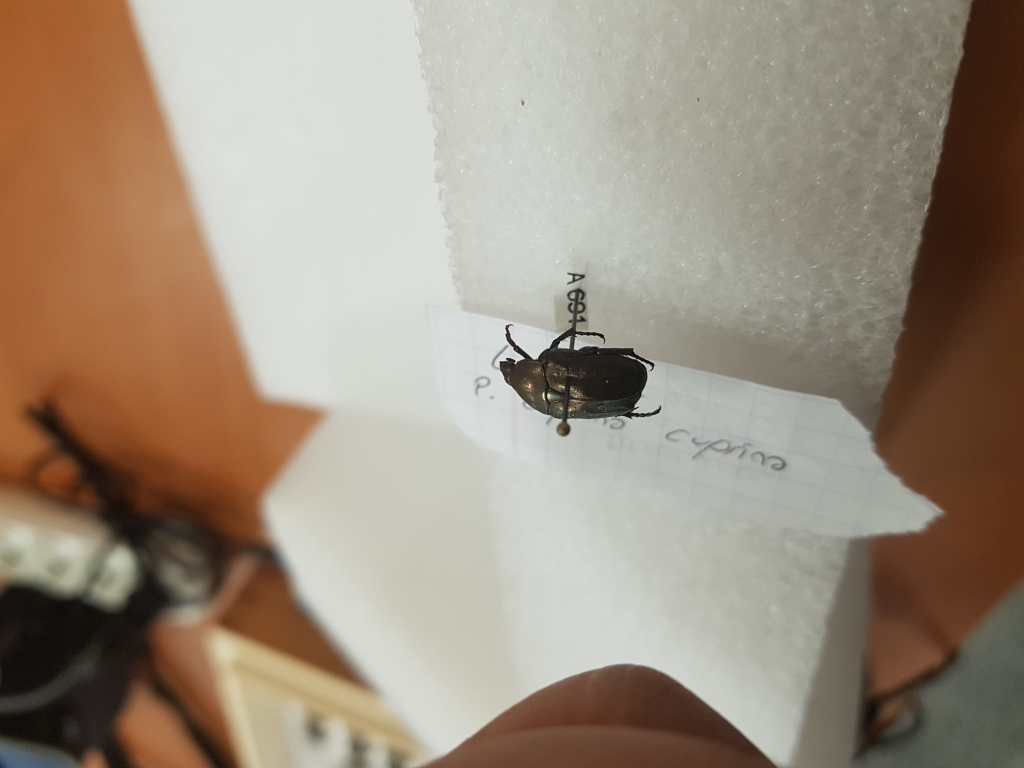Protaetia_cuprina_cuprina: (495, 317, 666, 425)
